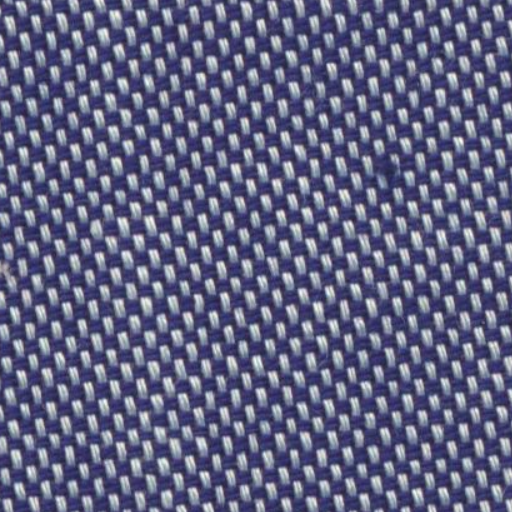MianQiu: (356, 138, 413, 190)
